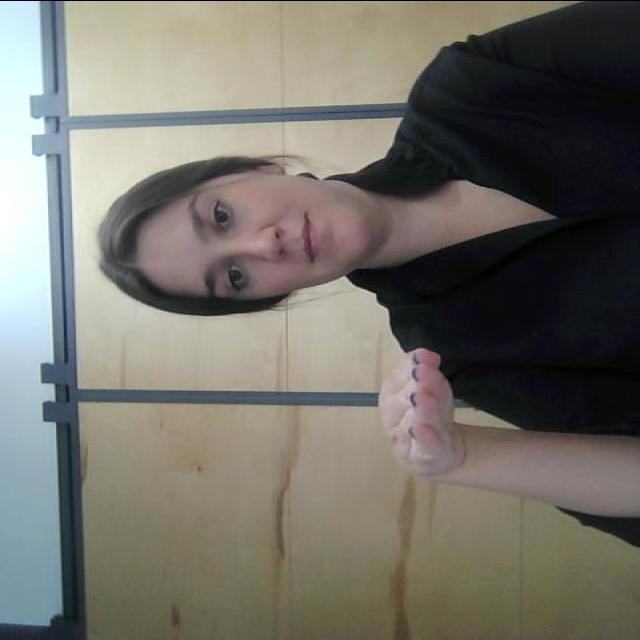Paper: (366, 348, 466, 480)
